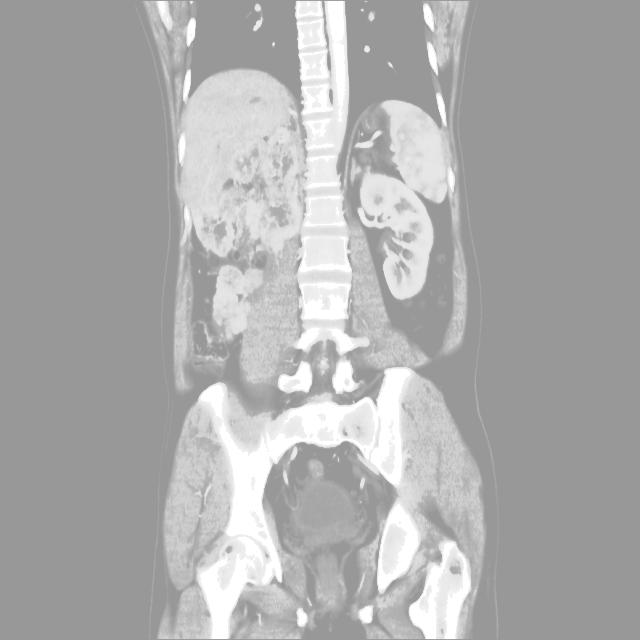TUMOR: (113, 98, 502, 373)
